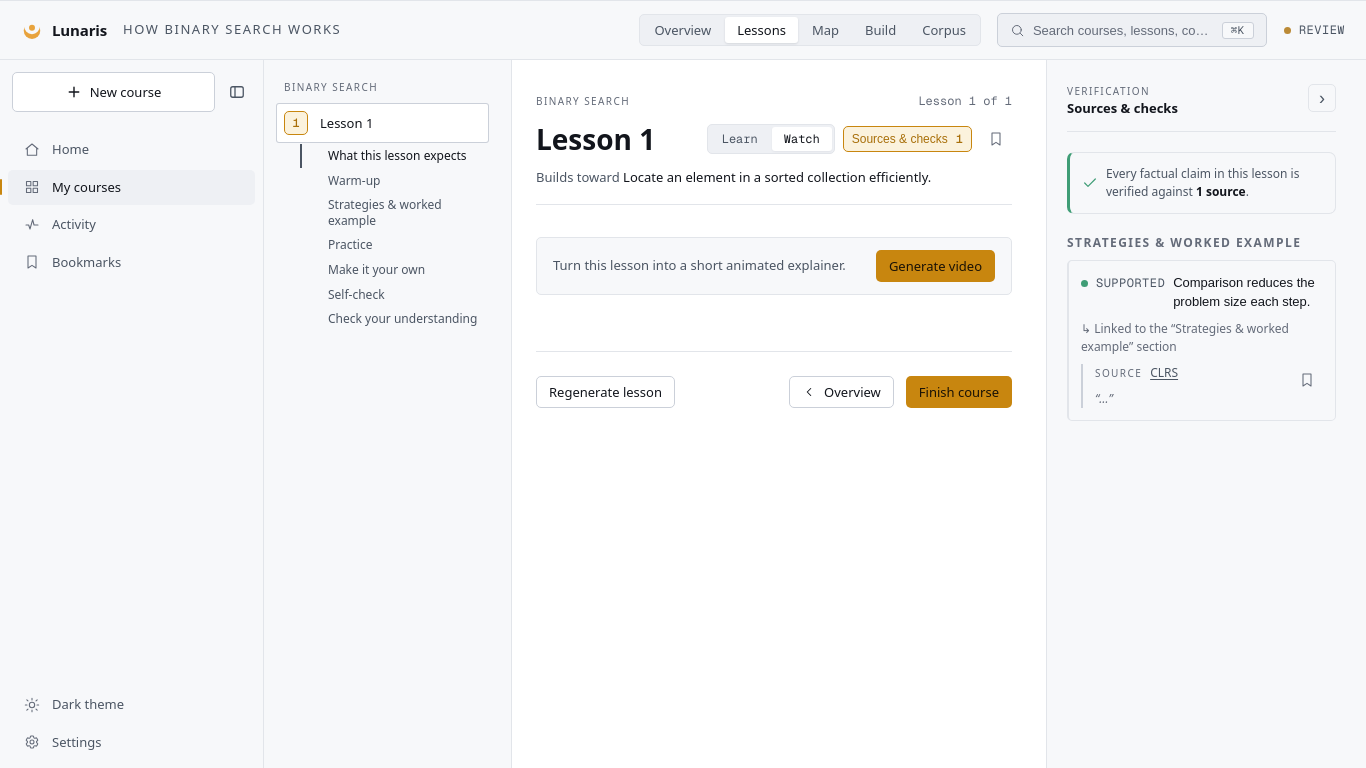
Test case: App — URL routing (live studio) › the reader's Overview exit returns to the landing tab end-to-end
Click the button with aria-label "back to overview": click(841, 392) [789,376,894,408]
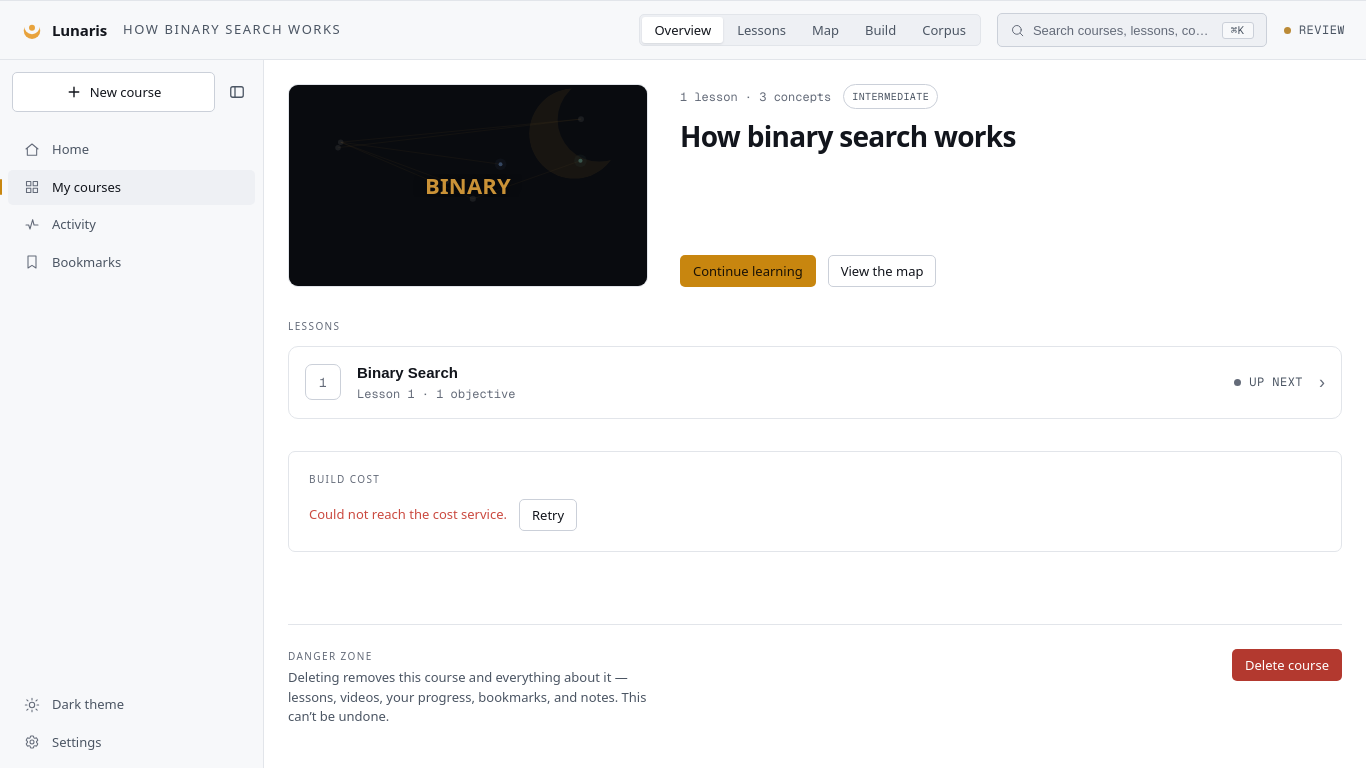
Result: the button "Continue learning" is shown at [680,254,816,286]
